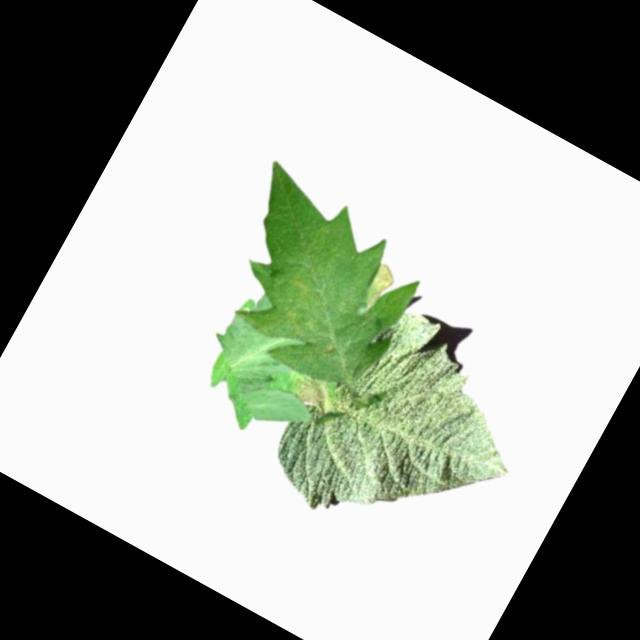Late_blight: (258, 265, 337, 347), (357, 260, 401, 315), (287, 368, 337, 415)
healthy: (257, 284, 552, 583)
